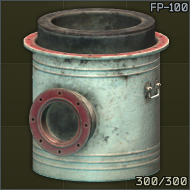FP-100 filter absorber: (0, 0, 190, 190)
